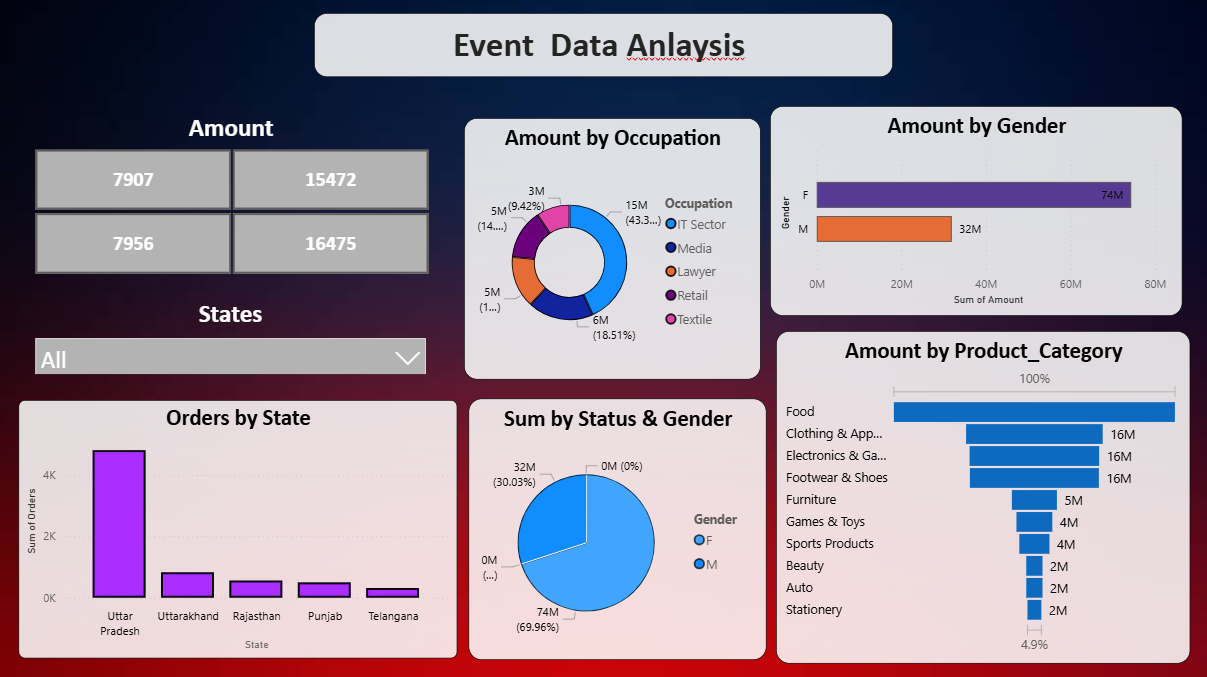

The dashboard page shown, as its layout file describes it:
{"tool":"powerbi","page":{"name":"Page 1","canvas":[1280,720],"ordinal":0},"visuals":[{"type":"barChart","title":"Amount by Gender","fields":{"Y":["Sum(Diwali_Sales.Amount)"],"Category":["Diwali_Sales.Gender"]},"box":[818,114,437.5,222.4],"z":0},{"type":"donutChart","title":"Amount by Occupation","fields":{"Category":["Diwali_Sales.Occupation"],"Y":["Sum(Diwali_Sales.Amount)"]},"box":[489,119.5,314.3,277.6],"z":1000},{"type":"clusteredColumnChart","title":" Orders by State","fields":{"Category":["Diwali_Sales.State"],"Y":["Sum(Diwali_Sales.Orders)"]},"box":[11,428.3,465.1,273.9],"z":2000},{"type":"pieChart","title":"Sum by Status & Gender","fields":{"Y":["Sum(Diwali_Sales.Marital_Status)","Sum(Diwali_Sales.Amount)"],"Category":["Diwali_Sales.Gender"]},"box":[490.8,424.6,316.2,277.6],"z":3000},{"type":"funnel","title":"Amount by Product_Category","fields":{"Category":["Diwali_Sales.Product_Category"],"Y":["Sum(Diwali_Sales.Amount)"]},"box":[819.8,347.4,439.3,352.9],"z":4000},{"type":"textbox","box":[334.6,16.5,614,68],"z":5000},{"type":"textbox","box":[11,110.3,220.6,187.5],"z":5001}]}

Visuals, with their boxes in screenshot pixels (x1, y1, x2, y2), scaled from the page's 1280x720 canvas onto the 1207x677 screenshot:
"Amount by Gender" barChart: left=771, top=107, right=1184, bottom=316
"Amount by Occupation" donutChart: left=461, top=112, right=757, bottom=373
" Orders by State" clusteredColumnChart: left=10, top=403, right=449, bottom=660
"Sum by Status & Gender" pieChart: left=463, top=399, right=761, bottom=660
"Amount by Product_Category" funnel: left=773, top=327, right=1187, bottom=658
textbox: left=316, top=16, right=895, bottom=79
textbox: left=10, top=104, right=218, bottom=280
